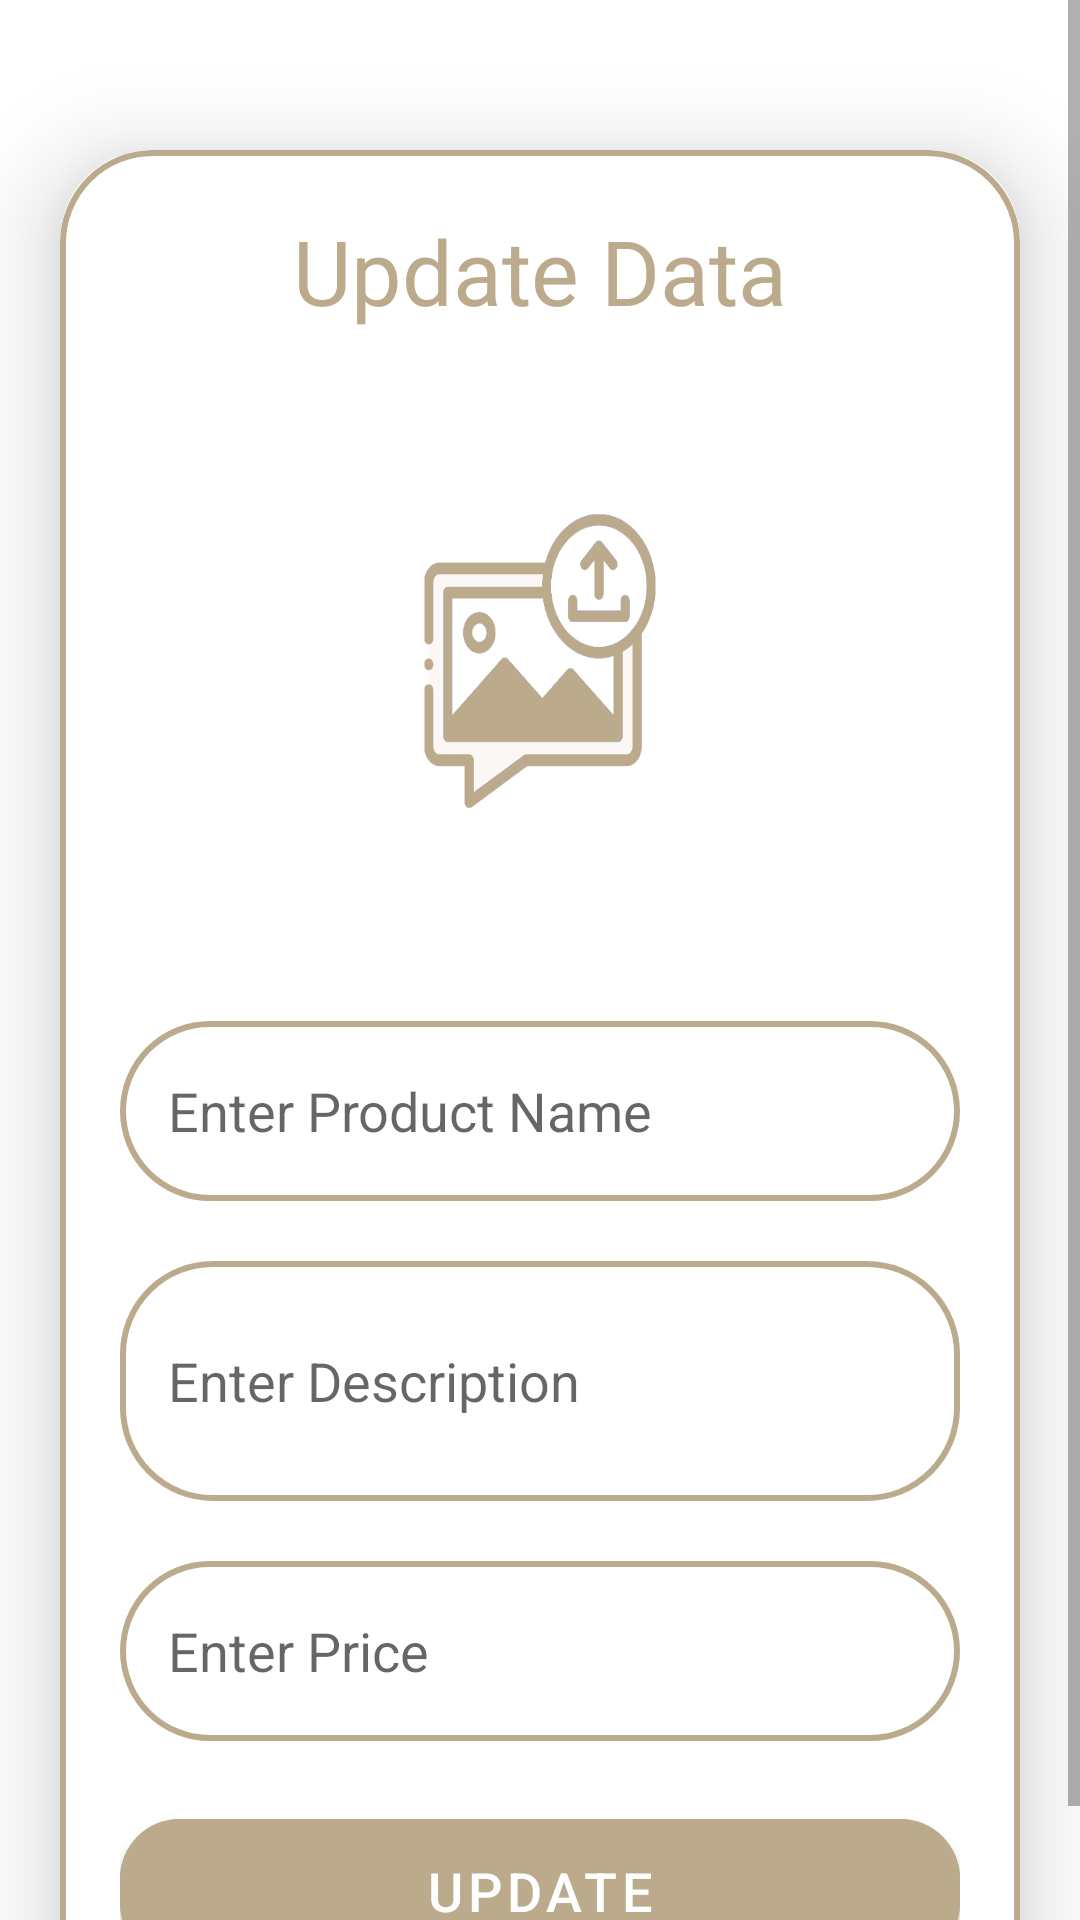

Named icons in this screenshot (1080px×1920px) and their bounding boxes, (x1, y1, x2, y2):
uploadimg: (424, 514, 656, 808)
